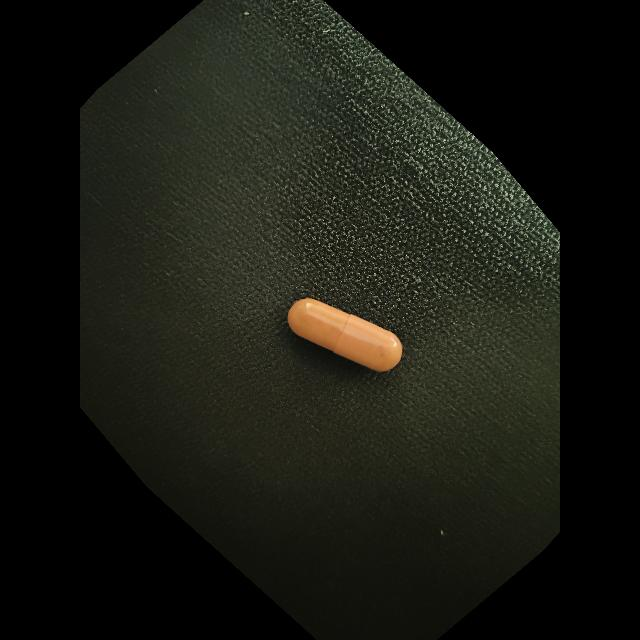Intact Capsule: (287, 298, 403, 371)
